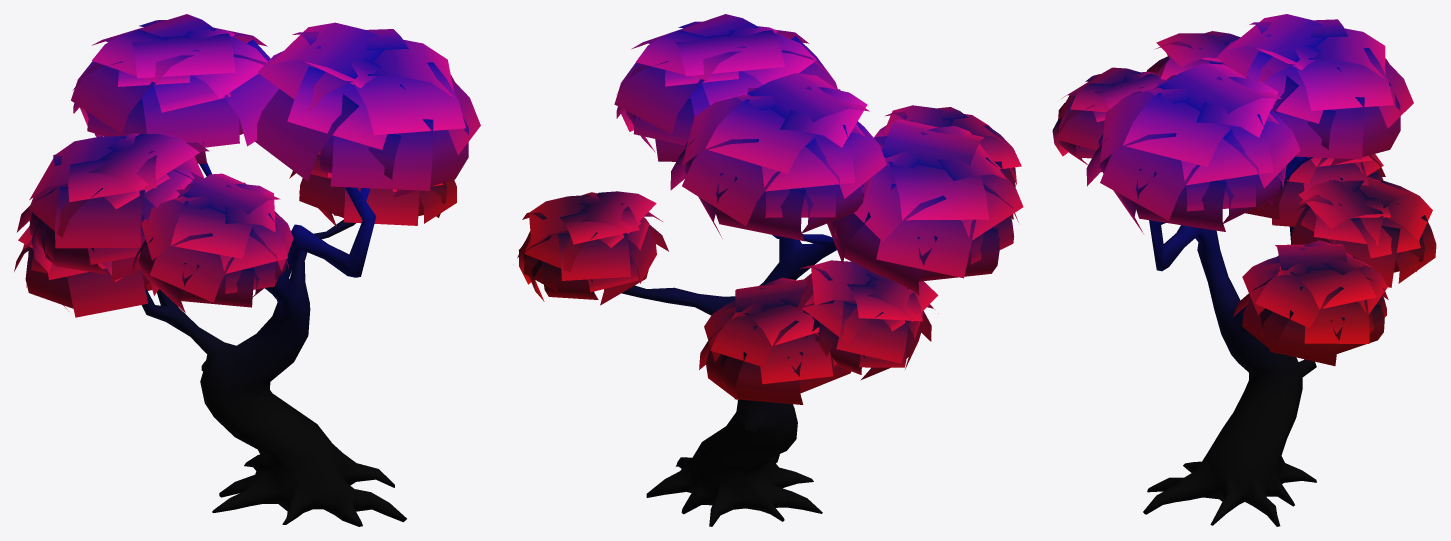
The model's file is tree3_A.fbx.
3 renders of one model, left to right at view 1: azimuth 30°, elevation 25°; view 2: azimuth 150°, elevation 25°; view 3: azimuth 270°, elevation 25°, orthographic. The views are drawn at different scales.
Parts seen in each view (by area): view 1: Tree_04_a_LOD0.001; view 2: Tree_04_a_LOD0.001; view 3: Tree_04_a_LOD0.001.
Boxes of the visible parts, x1,y1,x2,y2 form: Tree_04_a_LOD0.001: (14, 14, 480, 526); Tree_04_a_LOD0.001: (517, 14, 1023, 526); Tree_04_a_LOD0.001: (1052, 14, 1436, 526).
Bounding box in the file's own units: 615 × 594 × 492.
